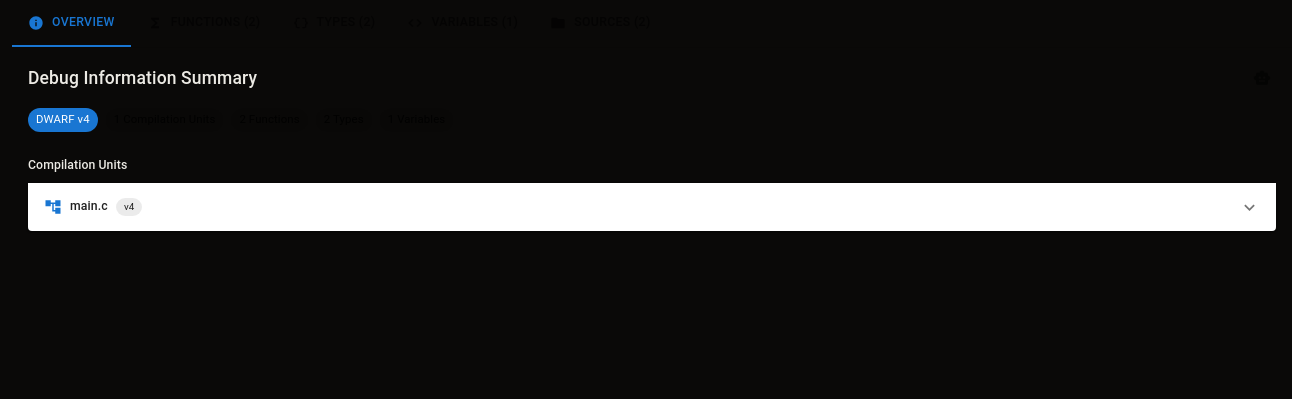
DWARFPanel › expands compilation unit details
Click the button "main.c v4": (89, 206) [44, 197, 1260, 218]
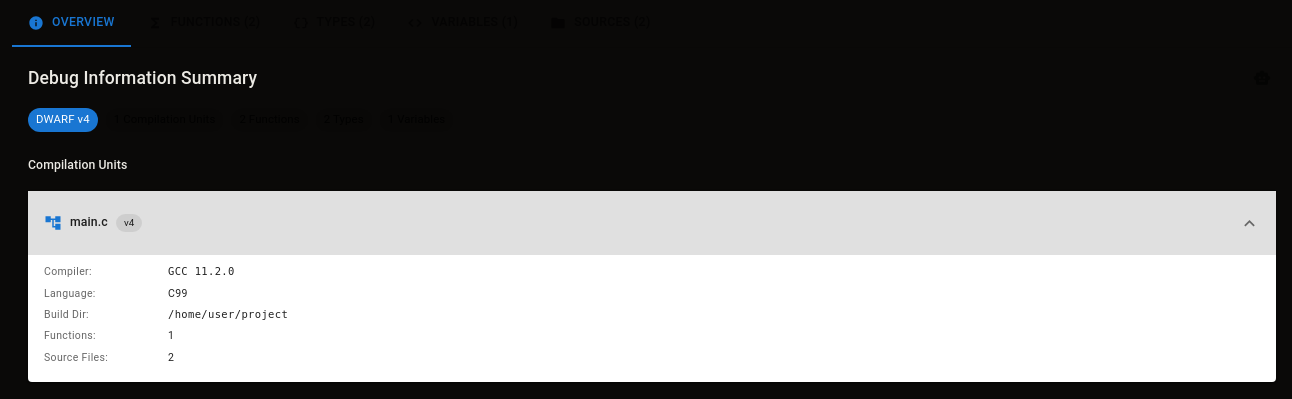
Check: the text "GCC 11.2.0" is shown, box [168, 265, 235, 277]
Check: the text "C99" is shown, box [168, 287, 188, 300]
